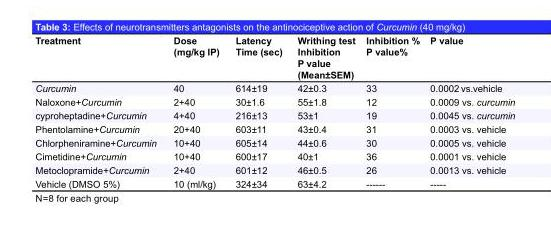table: (34, 34, 514, 188)
table column: (34, 34, 164, 188), (424, 34, 514, 188), (289, 34, 360, 188), (360, 34, 424, 188), (226, 34, 289, 188), (164, 34, 226, 188)
table column header: (34, 34, 514, 80)
table row: (34, 34, 514, 80), (34, 80, 514, 94), (34, 94, 514, 108), (34, 121, 514, 135), (34, 135, 514, 149), (34, 162, 514, 176), (34, 108, 514, 121), (34, 149, 514, 162), (34, 176, 514, 188)
